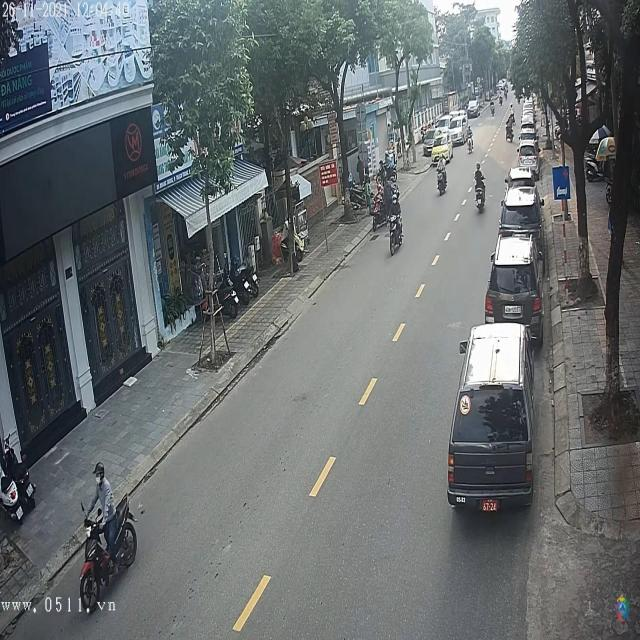car: (449, 326, 534, 510), (485, 235, 543, 348), (499, 188, 544, 238), (518, 144, 540, 169), (467, 99, 481, 117)
motorcycle: (78, 497, 140, 613), (389, 208, 404, 254), (473, 182, 487, 215), (437, 173, 448, 198)
